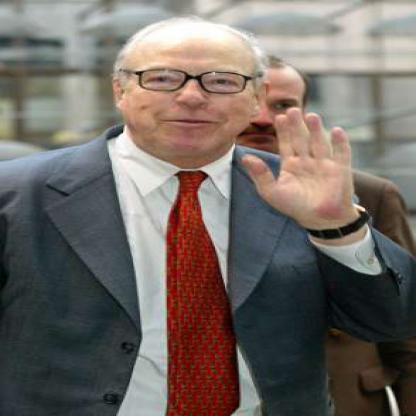face: (123, 18, 258, 157), (207, 59, 311, 161)
